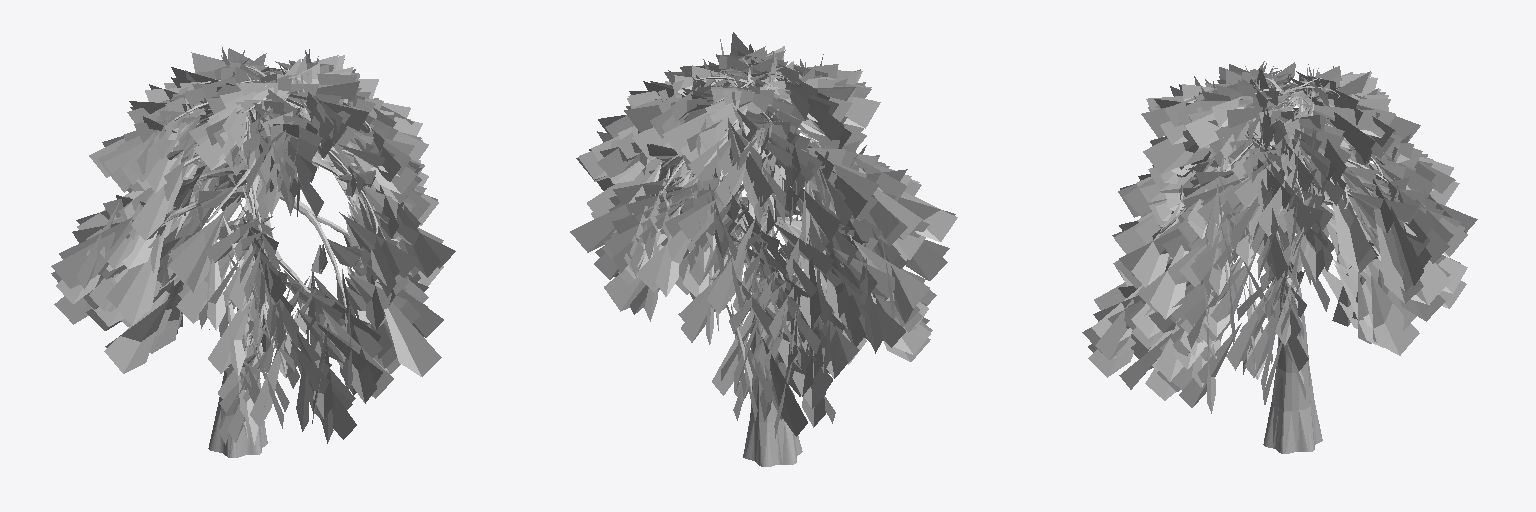
File: GiantPine_3.obj
3 views of the same model, side by side, from view 1: azimuth 30°, elevation 25°; view 2: azimuth 150°, elevation 25°; view 3: azimuth 270°, elevation 25° (orthographic).
Parts seen in each view (by area): view 1: GiantPine_3; view 2: GiantPine_3; view 3: GiantPine_3.
Boxes of the visible parts, box(x1,y1,x2,y2) form: GiantPine_3: box(51, 47, 455, 457); GiantPine_3: box(570, 32, 957, 466); GiantPine_3: box(1082, 61, 1477, 453).
Bounding box in the file's own units: 12.55 × 13.11 × 12.29.